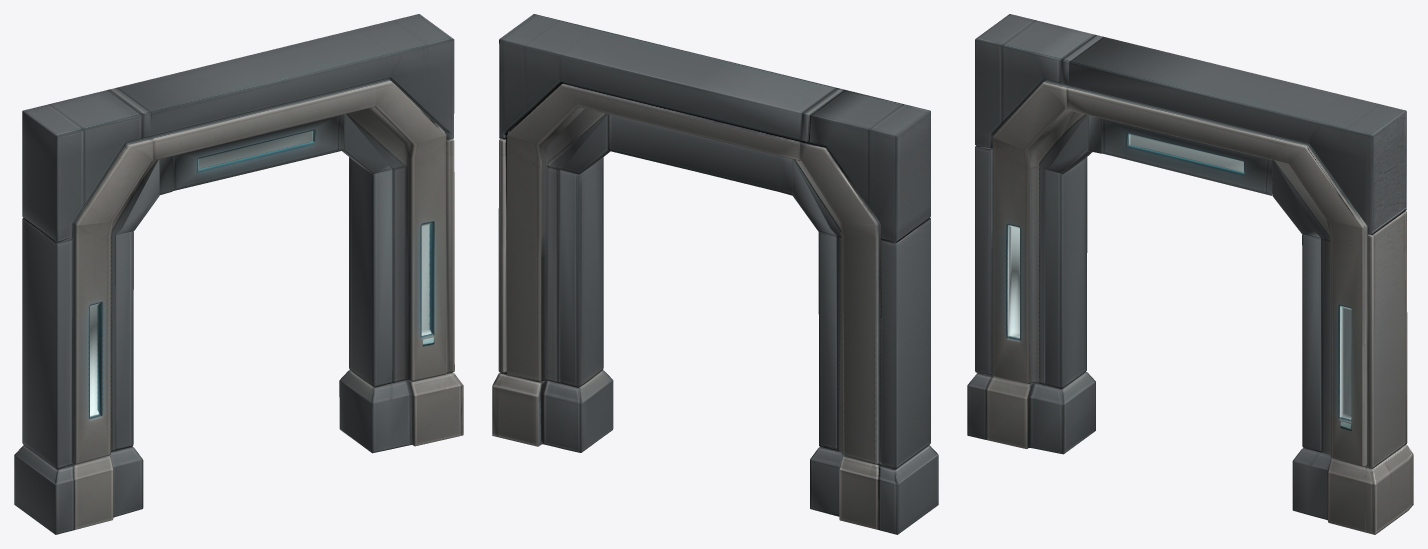
The model's file is archway.fbx.
3 renders of one model, left to right at view 1: azimuth 30°, elevation 25°; view 2: azimuth 150°, elevation 25°; view 3: azimuth 330°, elevation 25°, orthographic.
Parts seen in each view (by area): view 1: tripo_node_ebdcd46a; view 2: tripo_node_ebdcd46a; view 3: tripo_node_ebdcd46a.
Part boxes in pixels (x1,y1,x2,y2): tripo_node_ebdcd46a: (14, 14, 463, 534); tripo_node_ebdcd46a: (492, 14, 938, 534); tripo_node_ebdcd46a: (967, 14, 1413, 534).
Size of the model in its own units: 0.9995 by 0.9263 by 0.1763.
